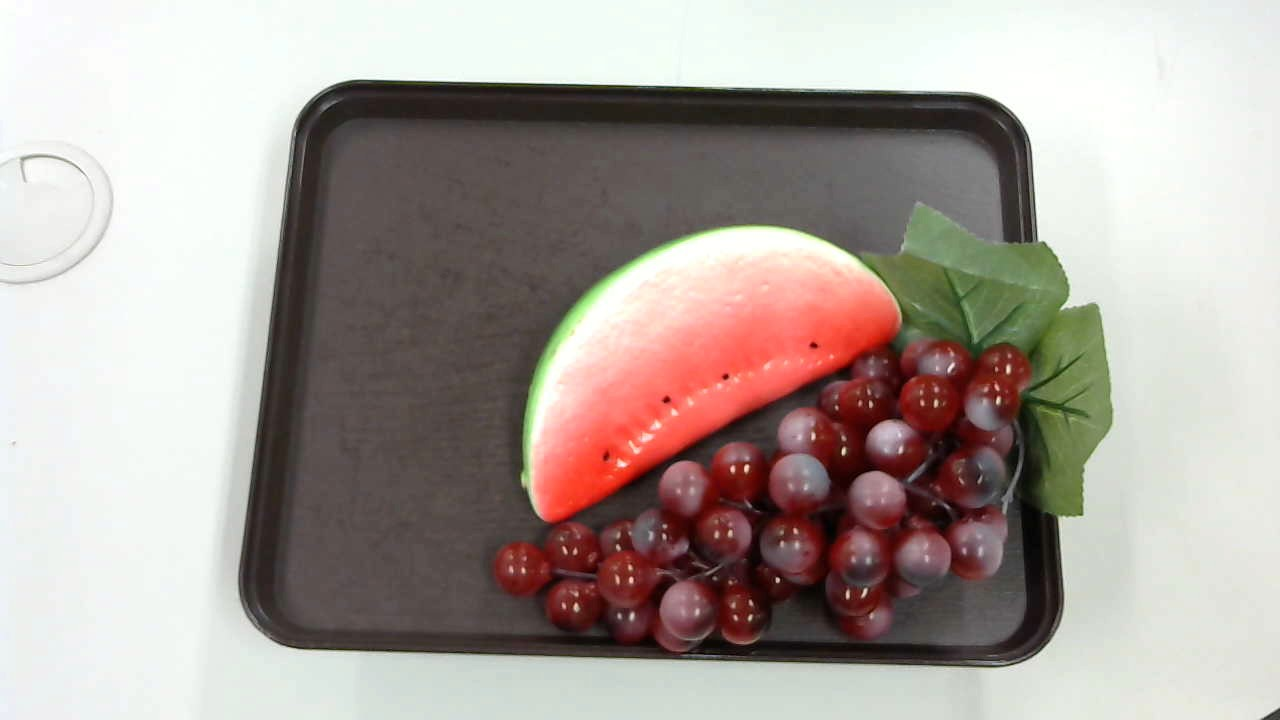grape: (485, 202, 1112, 664)
water melon: (522, 225, 901, 517)
